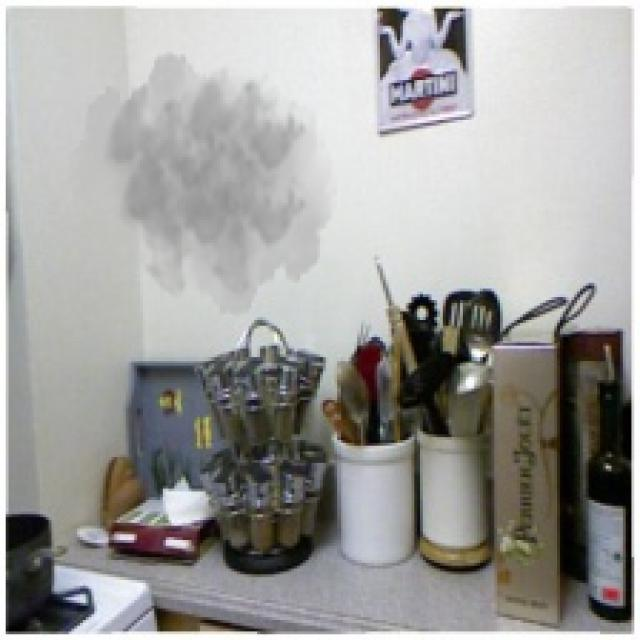smoke: (69, 49, 337, 320)
